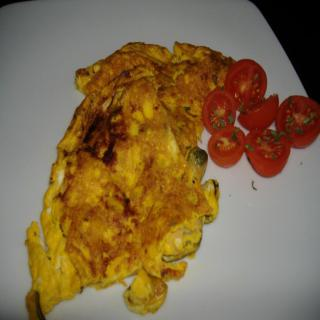tomato: (246, 129, 295, 177), (275, 93, 319, 146), (224, 59, 267, 112), (237, 91, 278, 133), (202, 86, 237, 132), (208, 124, 246, 166)
